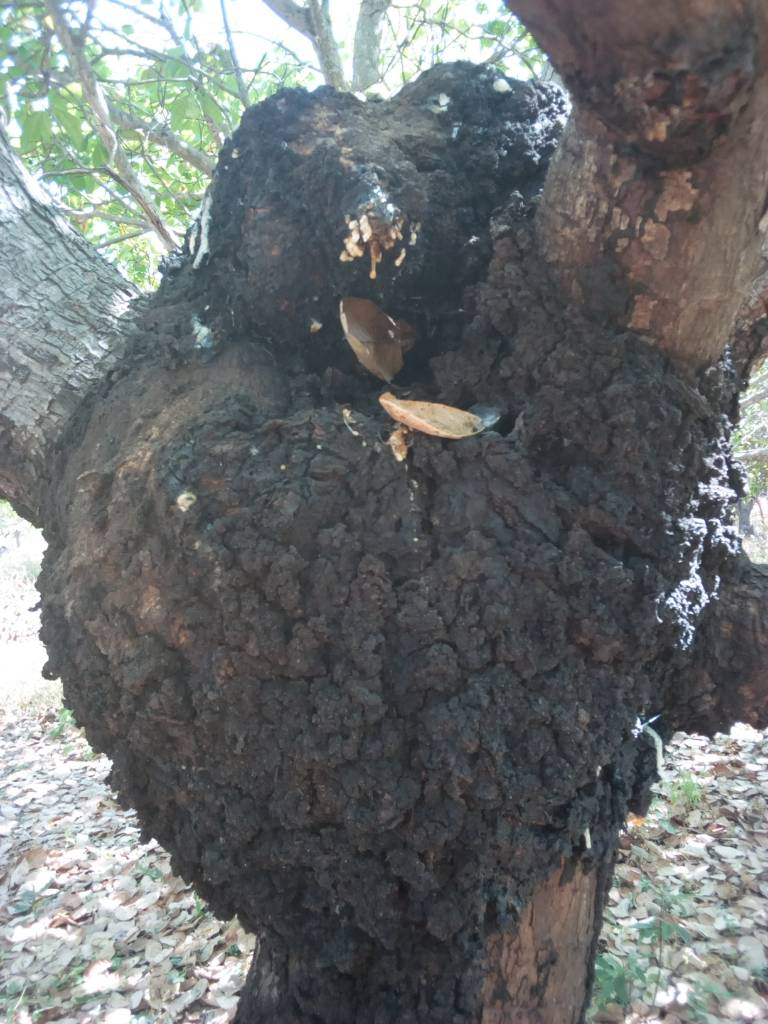Termites: (163, 422, 682, 933), (305, 103, 675, 422)
